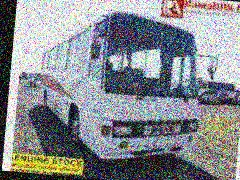bus: (34, 3, 213, 167)
